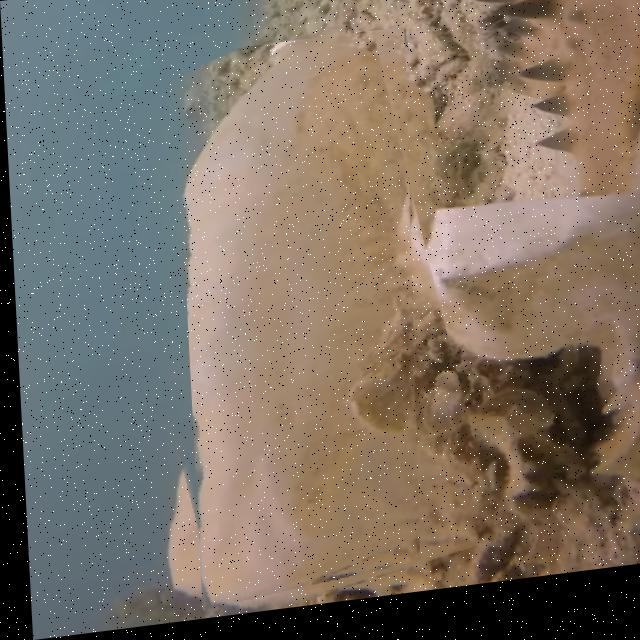litter: (179, 41, 415, 607)
